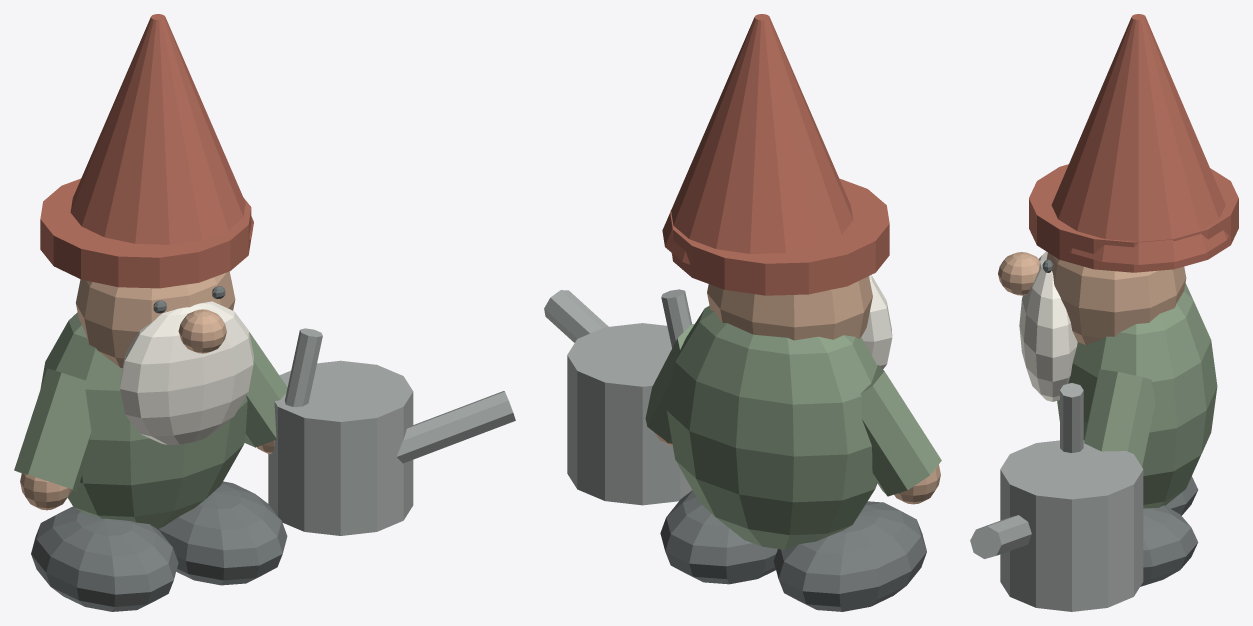
Rendered from garden-gnome-watering.glb.
The picture shows the model from 3 angles, left to right: view 1: azimuth 30°, elevation 25°; view 2: azimuth 150°, elevation 25°; view 3: azimuth 270°, elevation 25°; orthographic projection. The views are drawn at different scales.
Visible parts, largest first — view 1: hat brim, watering can, coat, boot, beard, hand; view 2: coat, hat brim, watering can, boot, hand, beard; view 3: hat brim, watering can, coat, hand, beard, boot.
Part boxes in pixels (box(x1,y1,x2,y2)): hat brim: box(40, 14, 253, 288); watering can: box(268, 328, 515, 535); coat: box(14, 312, 287, 528); boot: box(31, 286, 287, 611); beard: box(120, 301, 253, 444); hand: box(20, 271, 274, 510); coat: box(645, 305, 941, 549); hat brim: box(662, 14, 889, 295); watering can: box(544, 289, 692, 505); boot: box(660, 490, 926, 611); hand: box(654, 276, 940, 504); beard: box(861, 275, 892, 368); hat brim: box(1029, 14, 1238, 272); watering can: box(970, 383, 1143, 611); coat: box(1057, 283, 1217, 508); hand: box(998, 252, 1186, 344); beard: box(1019, 251, 1077, 401); boot: box(1042, 259, 1198, 586).
Bounding box in the file's own units: 1.03 × 1.26 × 0.5632.
